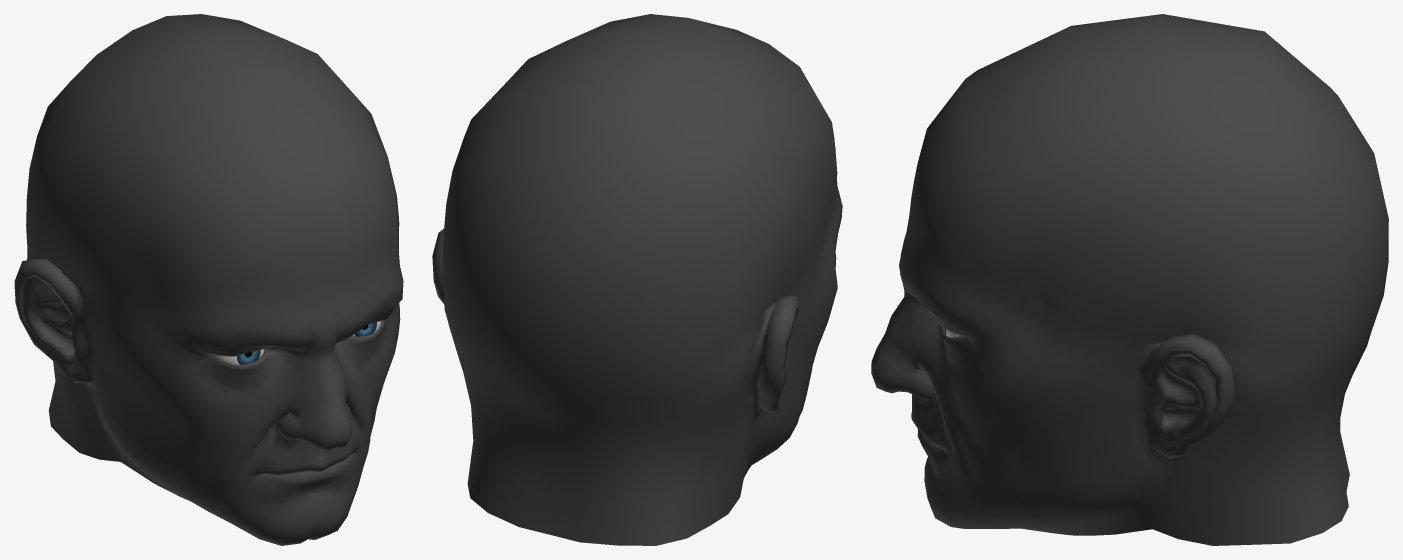
Rendered from head.FBX.
The picture shows the model from 3 angles, left to right: view 1: azimuth 30°, elevation 25°; view 2: azimuth 150°, elevation 25°; view 3: azimuth 270°, elevation 25°; orthographic projection. The views are drawn at different scales.
Parts seen in each view (by area): view 1: male head; view 2: male head; view 3: male head.
Part boxes in pixels (bbox=[...]): male head: bbox=[14, 14, 403, 545]; male head: bbox=[432, 14, 842, 545]; male head: bbox=[871, 14, 1388, 545].
Size of the model in its own units: 131 by 163 by 155.
2 materials, 1 textured.
